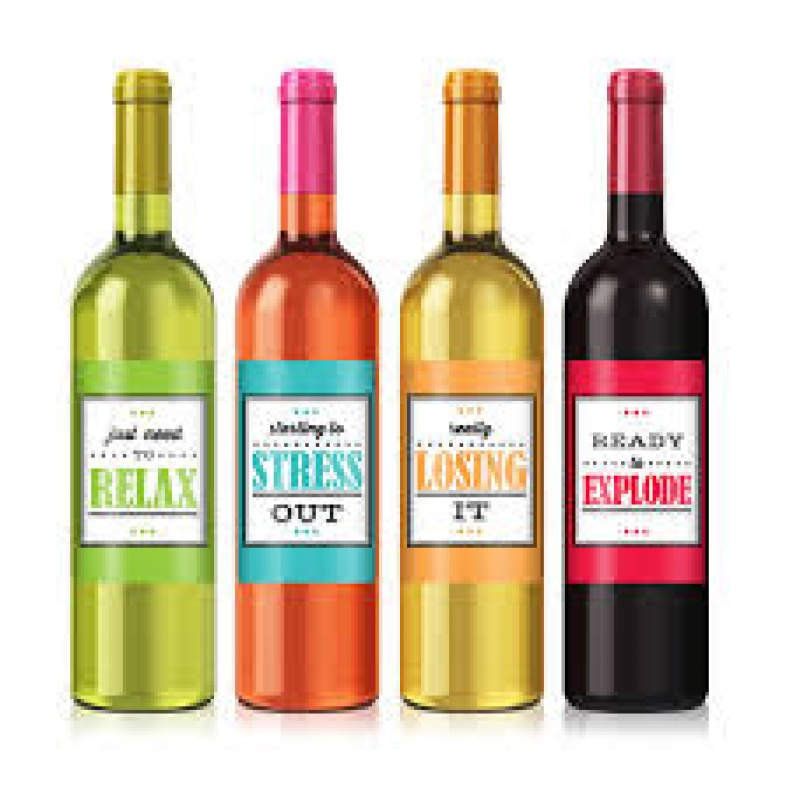wine: (560, 64, 719, 699), (66, 71, 214, 725), (399, 76, 548, 708), (236, 80, 382, 718)
